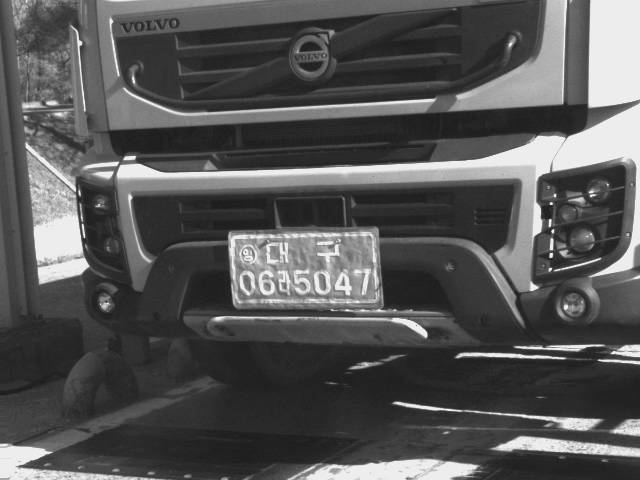car: (66, 1, 639, 389)
plate: (227, 230, 385, 308)
